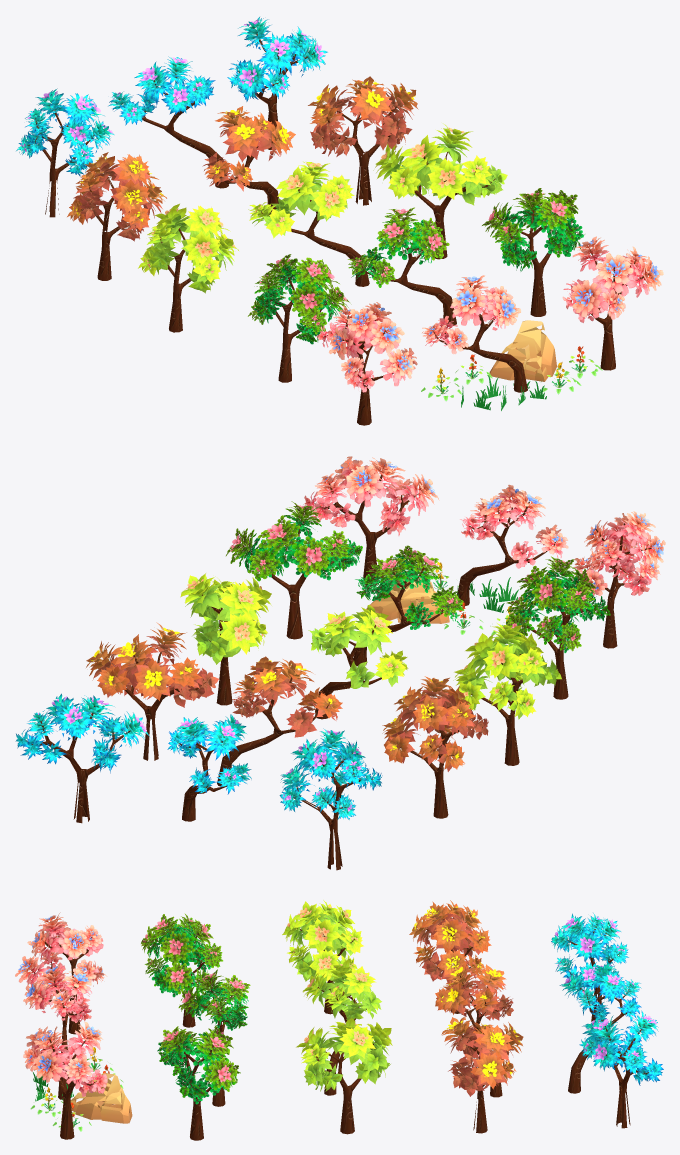
Rendered from NAT_TreesPainted.glb.
3 views of the same model, one above another, from view 1: azimuth 30°, elevation 25°; view 2: azimuth 150°, elevation 25°; view 3: azimuth 270°, elevation 25° (orthographic). The views are drawn at different scales.
Visible parts, largest first — view 1: TRS3_1, TRS4_4, TRW2_8, TRW3_2, TRS2_7, TRW4_3, TRW1_10, TRS1_9, TRT4_19, TRW5_6, TRT2_17, TRS5_5 (+5 smaller); view 2: TRS2_7, TRS4_4, TRW4_3, TRW3_2, TRS1_9, TRW2_8, TRS3_1, TRS5_5, TRW1_10, TRW5_6, TRT3_18, TRT1_16 (+5 smaller); view 3: TRS3_1, TRW2_8, TRS2_7, TRS4_4, TRS1_9, TRW3_2, TRW4_3, TRS5_5, TRW1_10, TRW5_6, TRT3_18, TRT4_19 (+4 smaller).
Part boxes in pixels (<box>): TRS3_1: <box>373,123,507,259</box>; TRS4_4: <box>308,76,418,205</box>; TRW2_8: <box>247,254,351,382</box>; TRW3_2: <box>138,203,238,332</box>; TRS2_7: <box>482,188,584,316</box>; TRW4_3: <box>67,152,166,280</box>; TRW1_10: <box>316,302,417,425</box>; TRS1_9: <box>562,236,663,370</box>; TRT4_19: <box>248,161,369,286</box>; TRW5_6: <box>16,88,114,217</box>; TRT2_17: <box>347,207,456,325</box>; TRS5_5: <box>227,17,327,149</box>; TRS2_7: <box>225,501,362,639</box>; TRS4_4: <box>86,622,218,760</box>; TRW4_3: <box>382,676,488,818</box>; TRW3_2: <box>453,623,561,765</box>; TRS1_9: <box>303,456,439,585</box>; TRW2_8: <box>506,556,610,699</box>; TRS3_1: <box>180,573,271,705</box>; TRS5_5: <box>15,693,149,823</box>; TRW1_10: <box>573,511,665,648</box>; TRW5_6: <box>279,728,382,870</box>; TRT3_18: <box>217,656,342,786</box>; TRT1_16: <box>457,484,568,606</box>; TRS3_1: <box>296,1018,392,1134</box>; TRW2_8: <box>141,913,223,1027</box>; TRS2_7: <box>157,1025,240,1140</box>; TRS4_4: <box>441,1016,523,1133</box>; TRS1_9: <box>23,1022,107,1139</box>; TRW3_2: <box>282,900,363,1014</box>; TRW4_3: <box>409,900,491,1013</box>; TRS5_5: <box>579,1010,663,1128</box>; TRW1_10: <box>15,912,107,1034</box>; TRW5_6: <box>551,913,628,1021</box>; TRT3_18: <box>435,962,513,1097</box>; TRT4_19: <box>302,959,381,1095</box>.
Size of the model in its own units: 23.79 by 7.8 by 39.73.
Materials: 2 (2 with a texture image).
